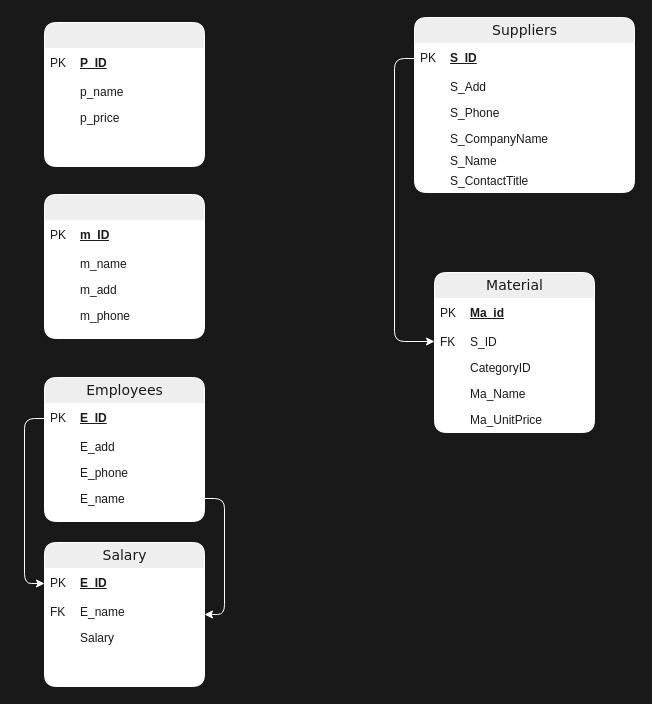
Image size: 652x704. Some labels were removed from this diagram. The box of each missing label's shape, as (x1, y1, x2, y2) in pixels:
member: (44, 194, 204, 338)
products: (44, 22, 204, 166)
